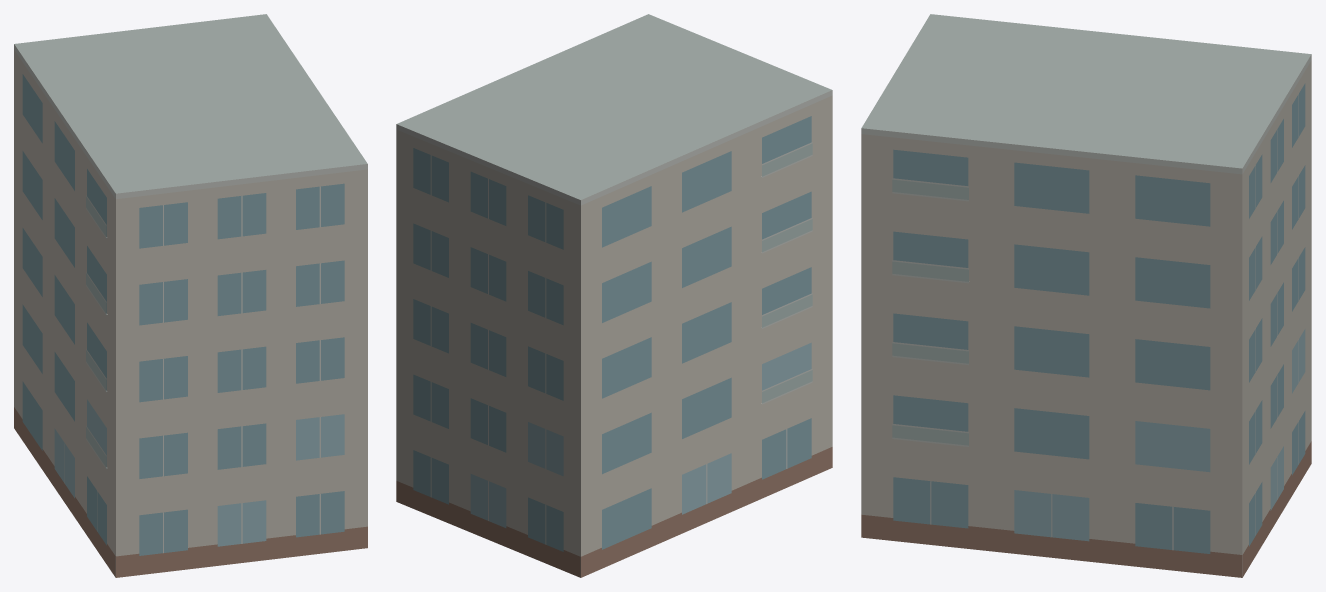
Rendered from survey-upis-32767126.glb.
3 views of the same model, side by side, from view 1: azimuth 30°, elevation 25°; view 2: azimuth 150°, elevation 25°; view 3: azimuth 270°, elevation 25° (orthographic). The views are drawn at different scales.
Parts seen in each view (by area): view 1: survey-upis-32767126.tmp; view 2: survey-upis-32767126.tmp; view 3: survey-upis-32767126.tmp.
Part boxes in pixels (x1,y1,x2,y2): survey-upis-32767126.tmp: [14, 14, 367, 577]; survey-upis-32767126.tmp: [396, 14, 832, 577]; survey-upis-32767126.tmp: [861, 14, 1311, 577].
Size of the model in its own units: 13.77 by 17 by 16.96.
